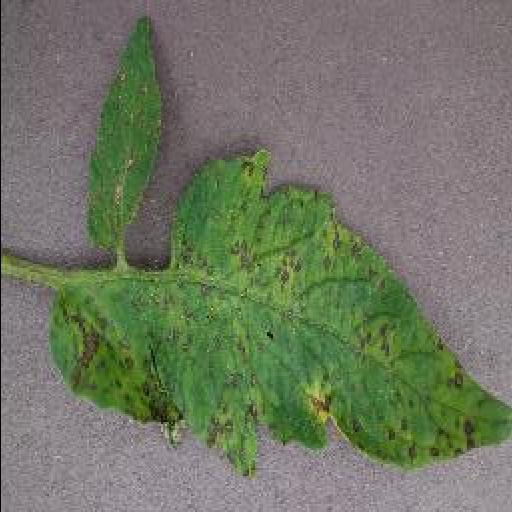disease_tomato: (48, 148, 510, 474)
